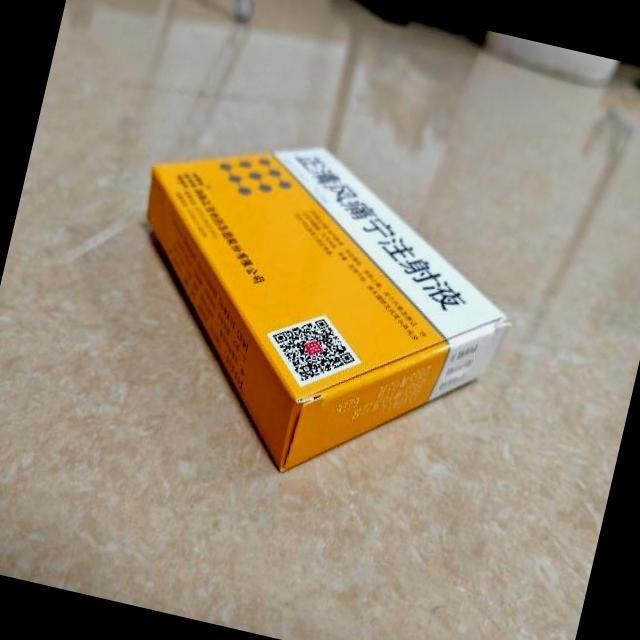box: (91, 110, 540, 515)
